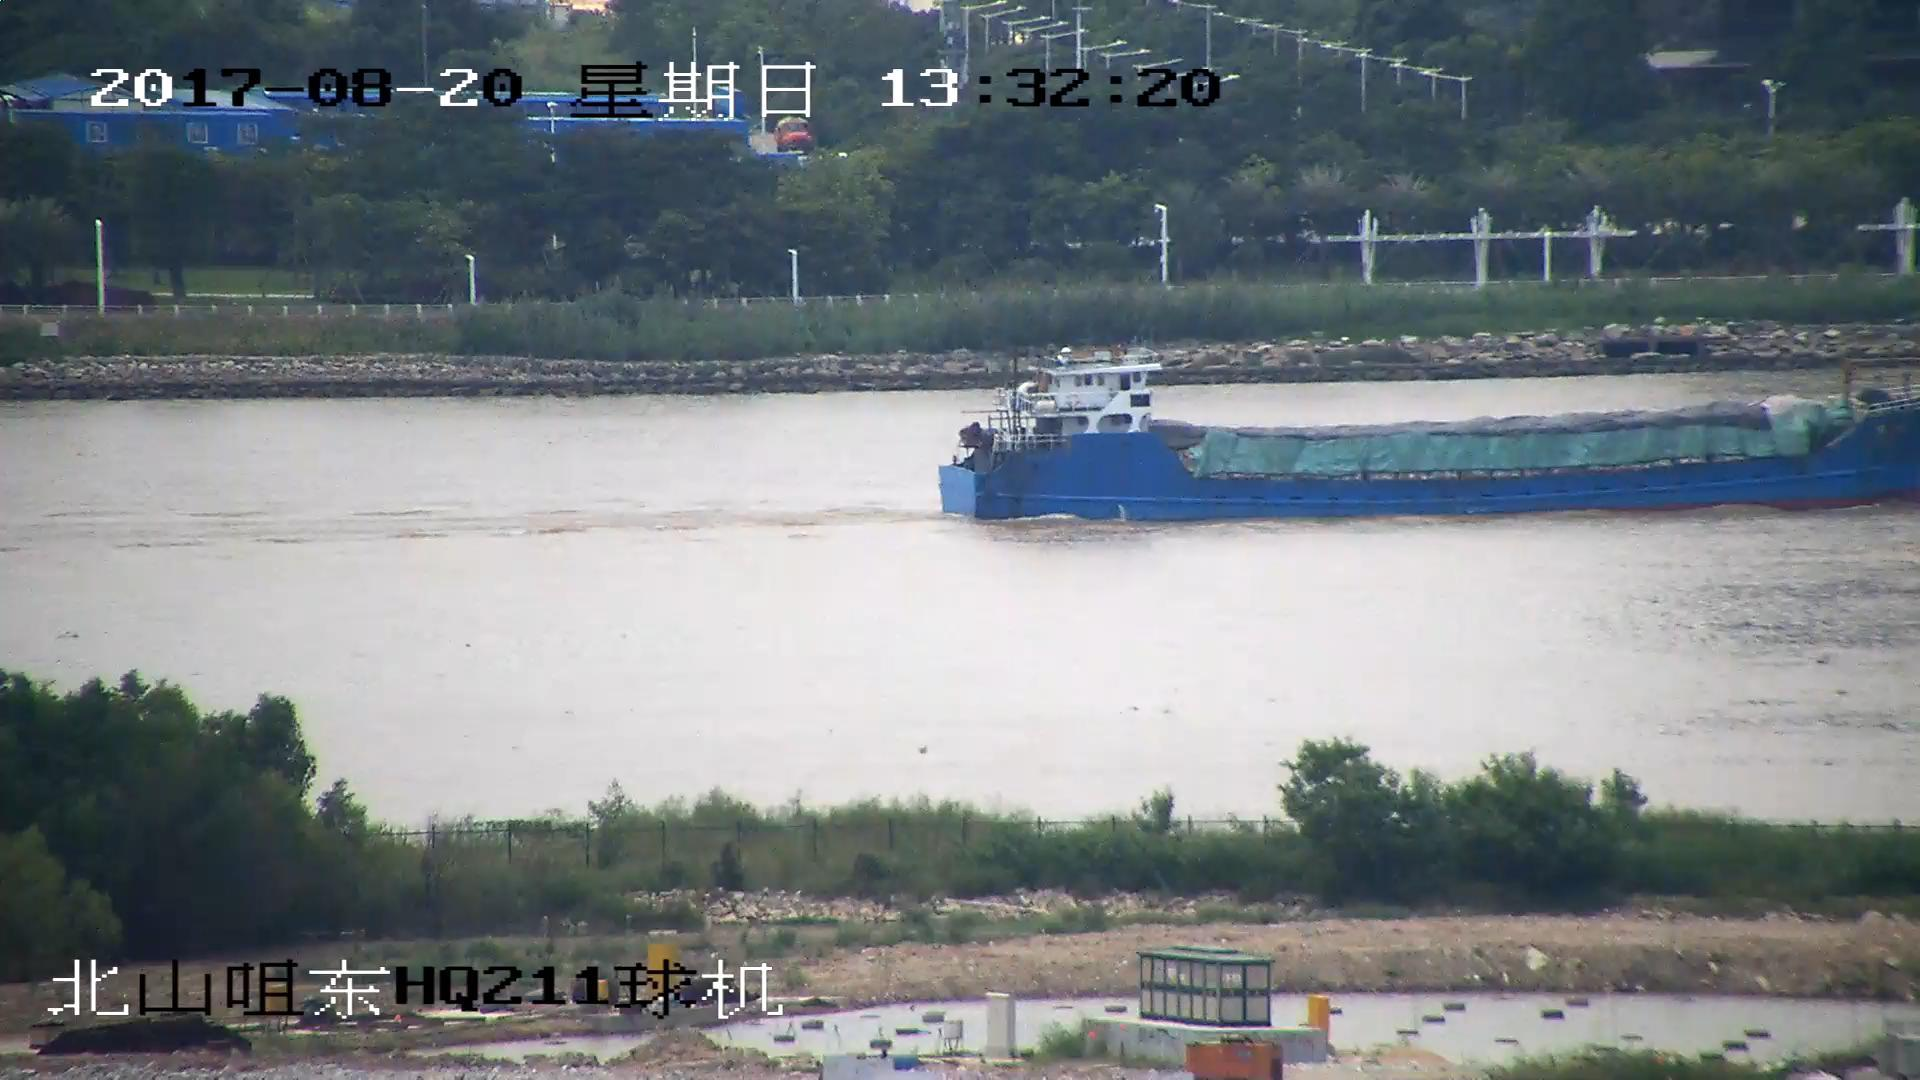Ship: (940, 357, 1920, 521)
